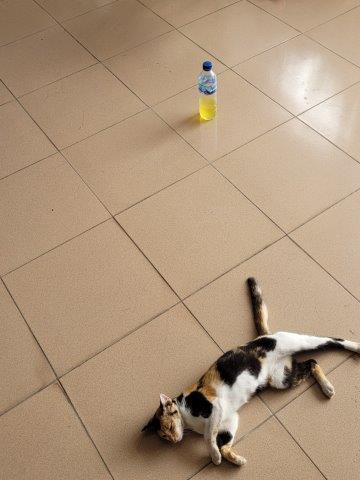botolplastik: (200, 60, 217, 123)
